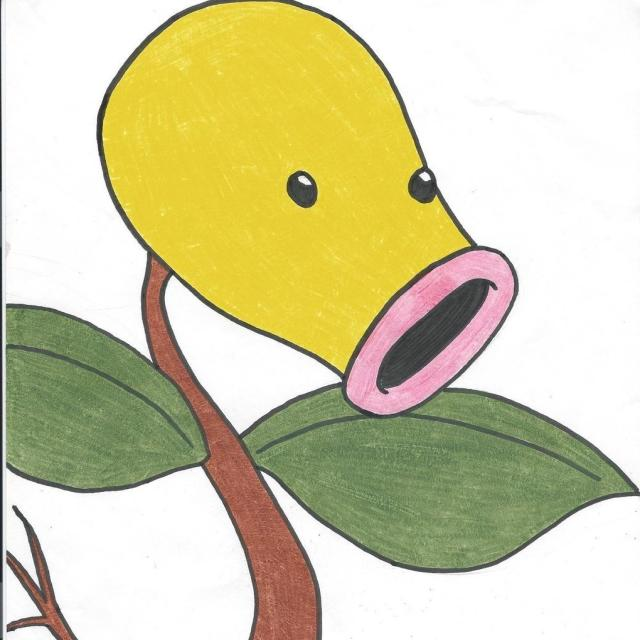Bellsprout: (91, 5, 524, 566)
